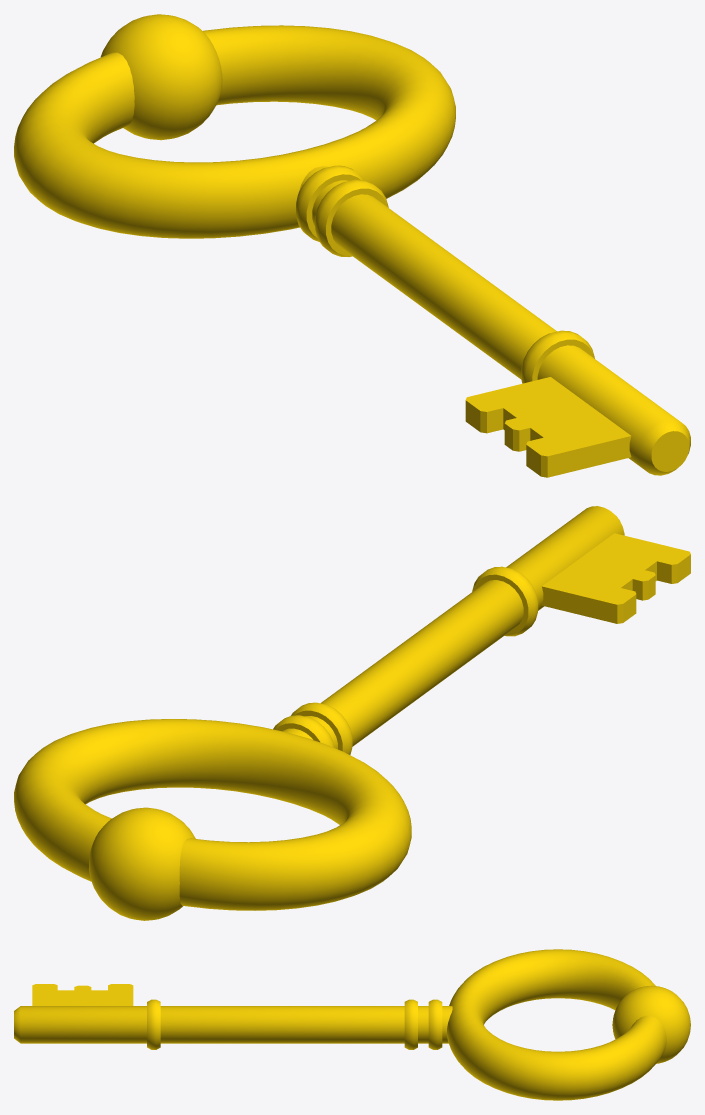
The model's file is goldKey.fbx.
The picture shows the model from 3 angles, top to bottom: view 1: azimuth 30°, elevation 25°; view 2: azimuth 150°, elevation 25°; view 3: azimuth 270°, elevation 25°; orthographic projection. The views are drawn at different scales.
Parts seen in each view (by area): view 1: key; view 2: key; view 3: key.
Part boxes in pixels (box(x1,y1,x2,y2)): key: box(14, 14, 690, 477); key: box(14, 506, 690, 920); key: box(14, 949, 690, 1100).
Size of the model in its own units: 3.44 by 0.929 by 8.
